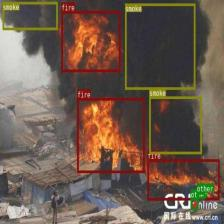fire: (77, 97, 144, 172), (61, 10, 120, 72), (147, 159, 219, 200)
smoke: (125, 3, 195, 89), (148, 96, 202, 154), (2, 2, 58, 29)
